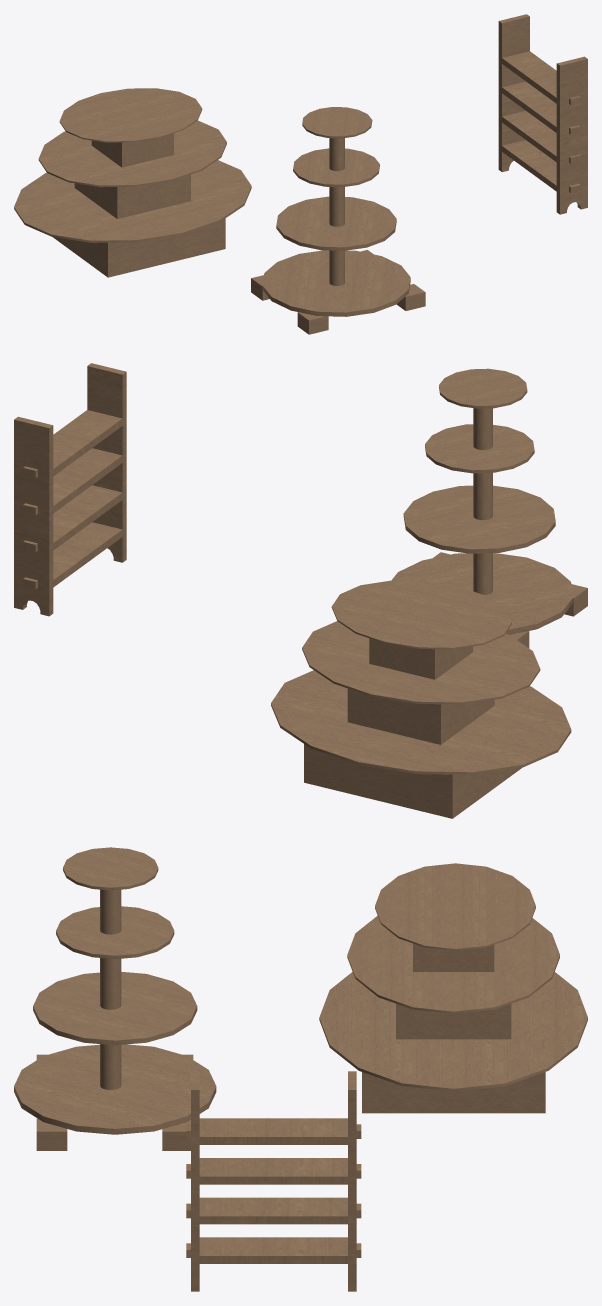
The model's file is shelves.fbx.
The picture shows the model from 3 angles, top to bottom: view 1: azimuth 30°, elevation 25°; view 2: azimuth 150°, elevation 25°; view 3: azimuth 270°, elevation 25°; orthographic projection. The views are drawn at different scales.
Visible parts, largest first — view 1: rectangle_shelf, pCylinder10, pCylinder14, pCylinder11, pCylinder12, pCylinder15, pCube32, pCube33, pCylinder16, pCylinder17, pCylinder13, pCube34 (+2 smaller); view 2: rectangle_shelf, pCylinder10, pCylinder11, pCylinder12, pCylinder15, pCube32, pCylinder14, pCube33, pCylinder16, pCylinder17, pCylinder13, pCube34; view 3: rectangle_shelf, pCylinder10, pCylinder14, pCylinder11, pCylinder12, pCylinder15, pCube32, pCylinder16, pCube33, pCylinder17, pCylinder13, pCube34 (+2 smaller).
Boxes of the visible parts, left/top/right/bottom form: rectangle_shelf: left=498, top=14, right=587, bottom=214; pCylinder10: left=14, top=160, right=251, bottom=242; pCylinder14: left=262, top=250, right=410, bottom=316; pCylinder11: left=38, top=120, right=226, bottom=187; pCylinder12: left=59, top=88, right=202, bottom=142; pCylinder15: left=276, top=196, right=396, bottom=250; pCube32: left=53, top=218, right=225, bottom=277; pCube33: left=74, top=174, right=190, bottom=218; pCylinder16: left=293, top=148, right=379, bottom=187; pCylinder17: left=302, top=107, right=372, bottom=138; pCylinder13: left=329, top=138, right=344, bottom=285; pCube34: left=91, top=133, right=173, bottom=167; rectangle_shelf: left=14, top=363, right=126, bottom=616; pCylinder10: left=271, top=670, right=571, bottom=774; pCylinder11: left=302, top=621, right=540, bottom=704; pCylinder12: left=331, top=580, right=511, bottom=649; pCylinder15: left=403, top=485, right=555, bottom=553; pCube32: left=304, top=744, right=522, bottom=818; pCylinder14: left=391, top=553, right=573, bottom=634; pCube33: left=347, top=688, right=494, bottom=744; pCylinder16: left=425, top=424, right=534, bottom=473; pCylinder17: left=439, top=368, right=527, bottom=408; pCylinder13: left=473, top=408, right=492, bottom=594; pCube34: left=369, top=638, right=472, bottom=679; rectangle_shelf: left=186, top=1071, right=361, bottom=1291; pCylinder10: left=319, top=972, right=587, bottom=1091; pCylinder14: left=14, top=1044, right=216, bottom=1134; pCylinder11: left=347, top=916, right=559, bottom=1013; pCylinder12: left=375, top=863, right=535, bottom=950; pCylinder15: left=33, top=971, right=197, bottom=1045; pCube32: left=362, top=1072, right=545, bottom=1113; pCylinder16: left=56, top=906, right=174, bottom=959; pCube33: left=396, top=1003, right=511, bottom=1039; pCylinder17: left=63, top=847, right=158, bottom=890; pCylinder13: left=100, top=889, right=121, bottom=1089; pCube34: left=413, top=943, right=494, bottom=971.
Size of the model in its own units: 8.33 by 3.25 by 6.56.
